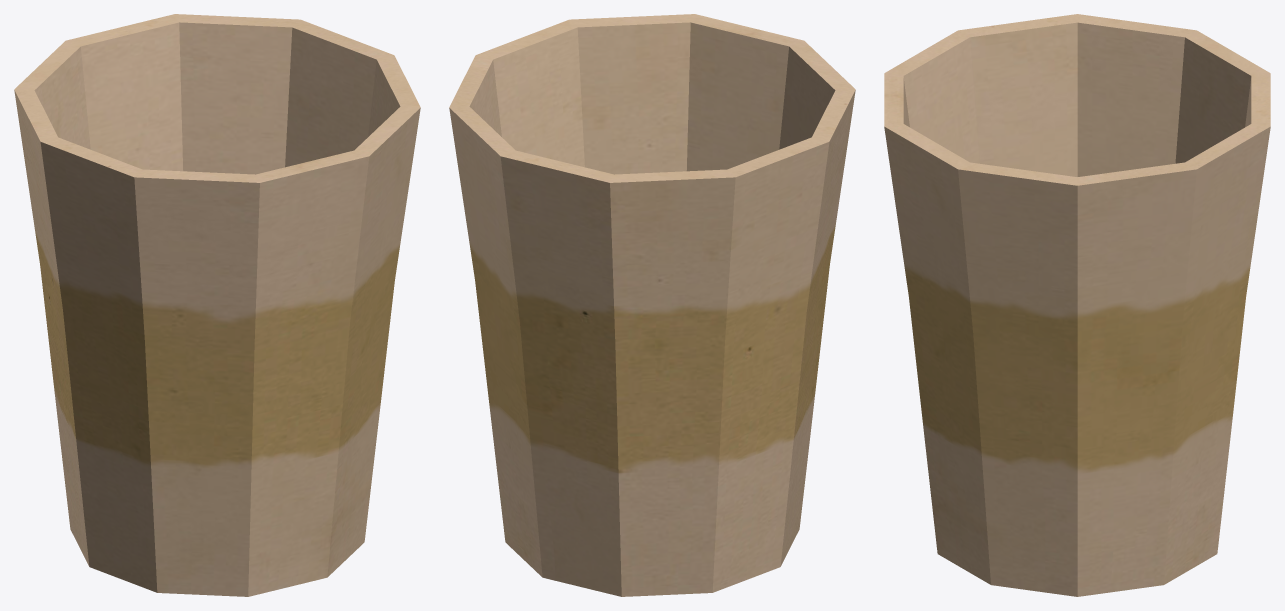
Rendered from PaperCup1.fbx.
3 views of the same model, side by side, from view 1: azimuth 30°, elevation 25°; view 2: azimuth 150°, elevation 25°; view 3: azimuth 270°, elevation 25° (orthographic).
Parts seen in each view (by area): view 1: pPipe1; view 2: pPipe1; view 3: pPipe1.
Part boxes in pixels (x1=…): pPipe1: x1=14, y1=14, x2=420, y2=596; pPipe1: x1=449, y1=14, x2=855, y2=596; pPipe1: x1=884, y1=14, x2=1270, y2=596.
Bounding box in the file's own units: 2 × 2.36 × 1.9.
